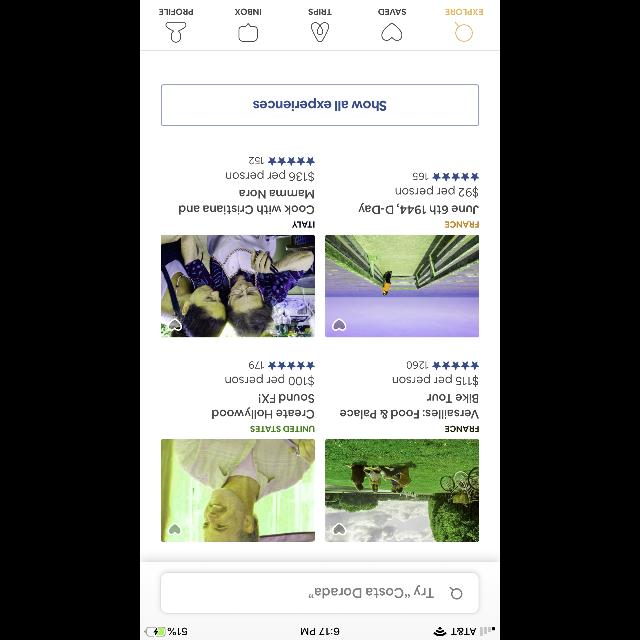icon: (432, 362, 480, 371), (166, 22, 187, 42), (268, 157, 314, 166), (238, 22, 258, 42), (432, 173, 478, 181), (268, 362, 314, 370), (382, 23, 402, 41), (454, 22, 472, 42), (332, 522, 346, 536), (168, 318, 182, 330), (332, 319, 346, 331), (168, 523, 182, 535), (450, 586, 462, 600)
image: (161, 235, 315, 337), (326, 235, 478, 337), (162, 439, 314, 541), (326, 439, 478, 541), (311, 22, 329, 42)
input: (160, 572, 480, 614)
text: (339, 394, 478, 418), (180, 190, 314, 214), (212, 394, 314, 418), (308, 585, 434, 599), (359, 203, 479, 214), (226, 170, 314, 182), (225, 374, 313, 386), (392, 374, 478, 386), (396, 186, 478, 198), (250, 426, 314, 432), (446, 9, 482, 15), (160, 9, 192, 15), (446, 222, 478, 228), (446, 426, 478, 432), (406, 361, 428, 369), (378, 9, 406, 15), (235, 9, 261, 15), (308, 9, 332, 15), (292, 222, 314, 228), (248, 361, 264, 369), (414, 172, 428, 180), (250, 158, 264, 165)
textbutton: (161, 84, 479, 126)
uppertaskbar: (140, 626, 500, 640)
